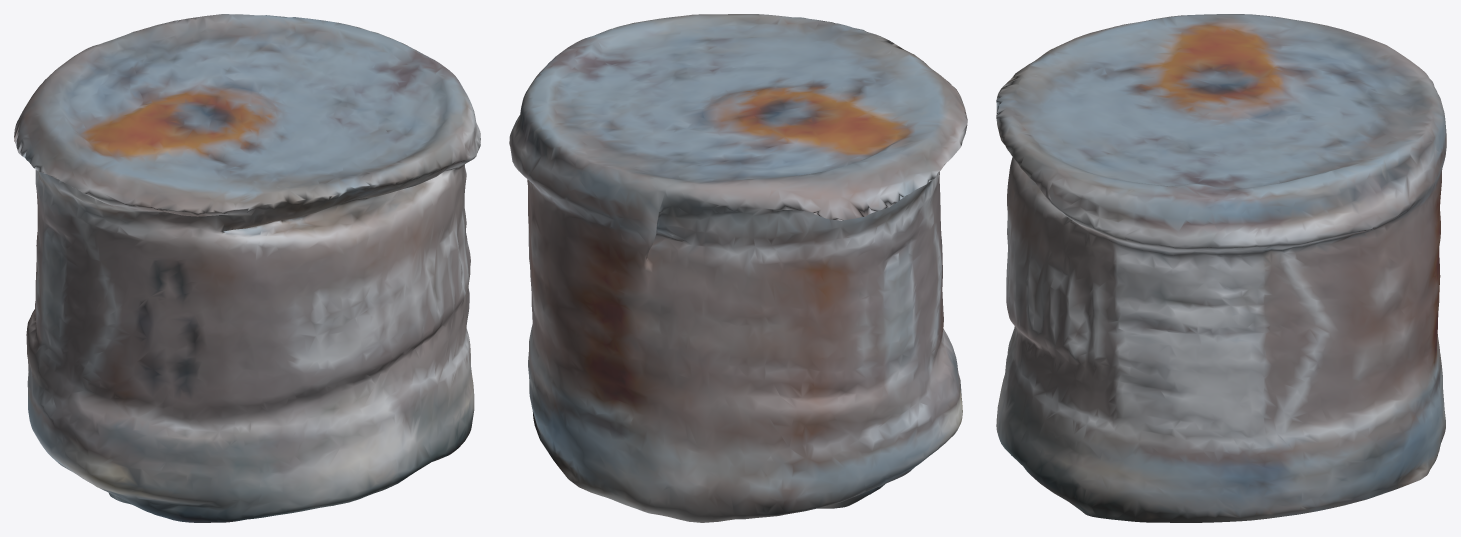
3 renders of one model, left to right at view 1: azimuth 30°, elevation 25°; view 2: azimuth 150°, elevation 25°; view 3: azimuth 270°, elevation 25°, orthographic. The views are drawn at different scales.
Parts seen in each view (by area): view 1: geometry_0; view 2: geometry_0; view 3: geometry_0.
Part boxes in pixels (box(x1,y1,x2,y2)): geometry_0: box(14, 14, 480, 522); geometry_0: box(509, 14, 967, 522); geometry_0: box(996, 14, 1446, 522).
Bounding box in the file's own units: 2 × 1.76 × 1.87.
